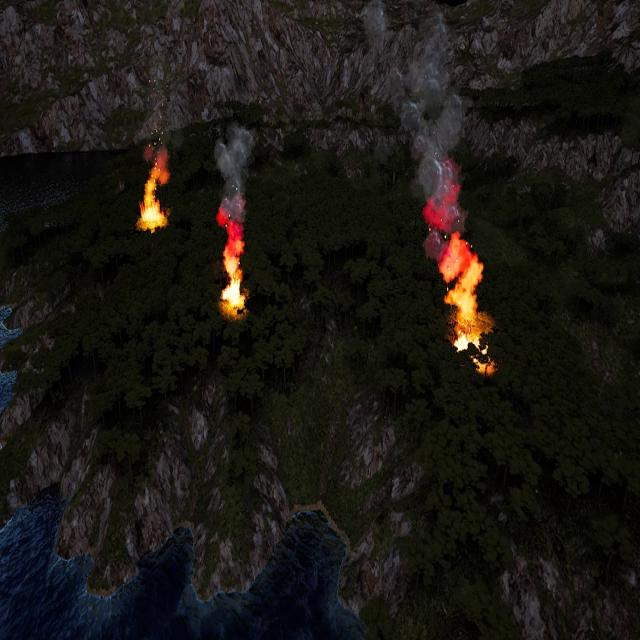fire: (440, 234, 495, 376), (138, 186, 166, 229), (220, 276, 246, 312)
smoke: (388, 27, 466, 227), (214, 121, 253, 274), (141, 142, 171, 182)
